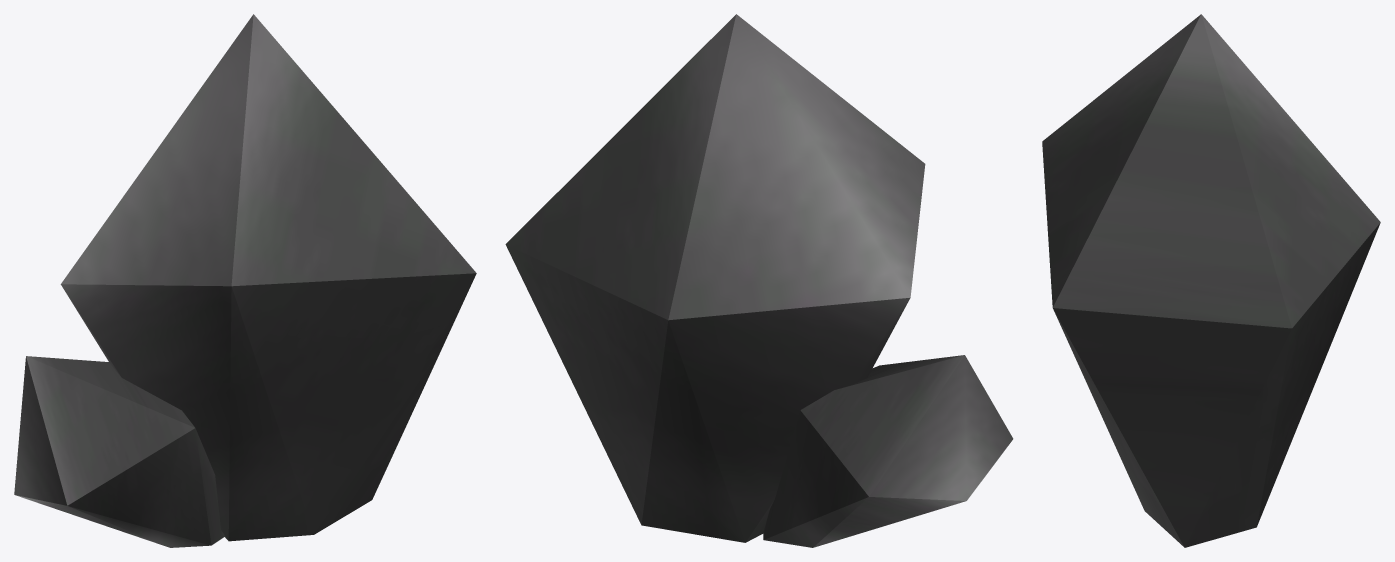
The model's file is TinOre.fbx.
3 views of the same model, side by side, from view 1: azimuth 30°, elevation 25°; view 2: azimuth 150°, elevation 25°; view 3: azimuth 270°, elevation 25° (orthographic). The views are drawn at different scales.
Parts seen in each view (by area): view 1: Rock; view 2: Rock; view 3: Rock.
Boxes of the visible parts, x1,y1,x2,y2 form: Rock: (14,14,476,547); Rock: (505,14,1013,547); Rock: (1042,14,1380,547).
Bounding box in the file's own units: 0.9464 × 1.09 × 0.6961.
